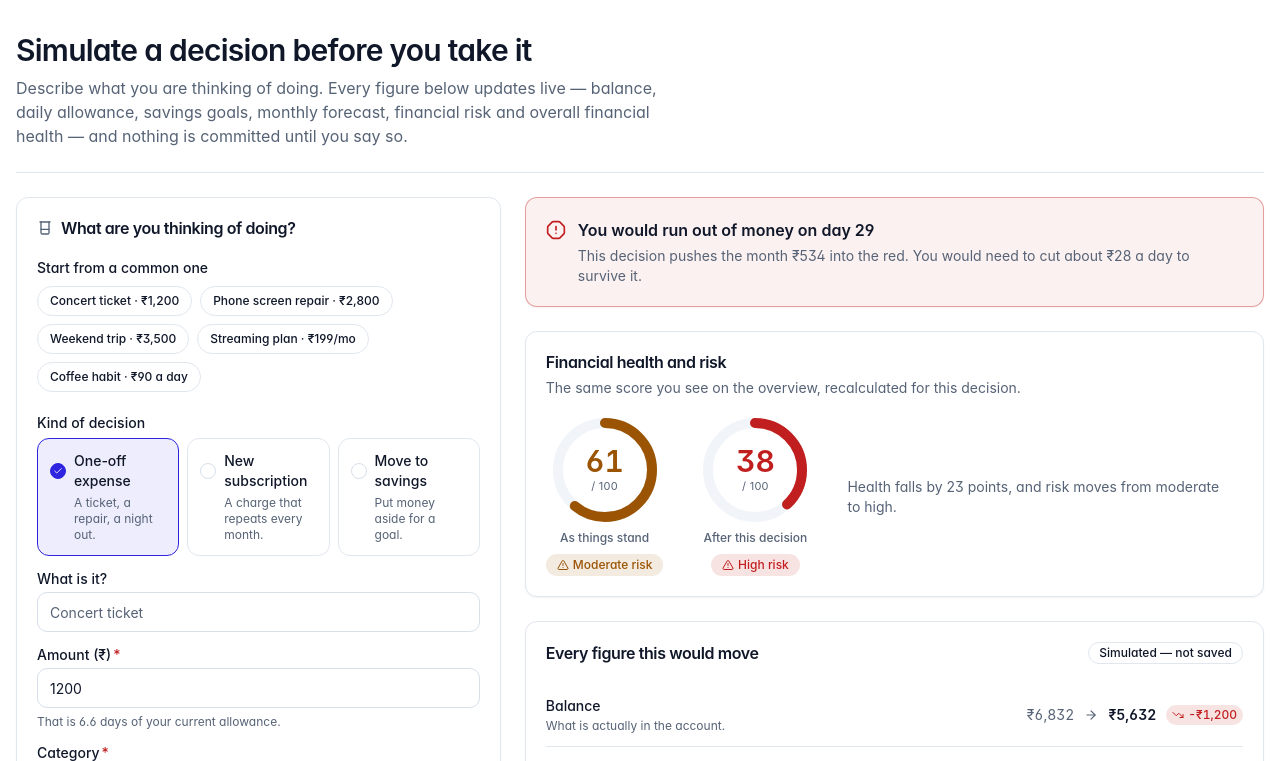
<Simulate /> › applying a preset fills the form and shows a live verdict without committing anything
Click the button "Phone screen repair · ₹2,800". click: [296, 301]
box: [200,286,392,316]
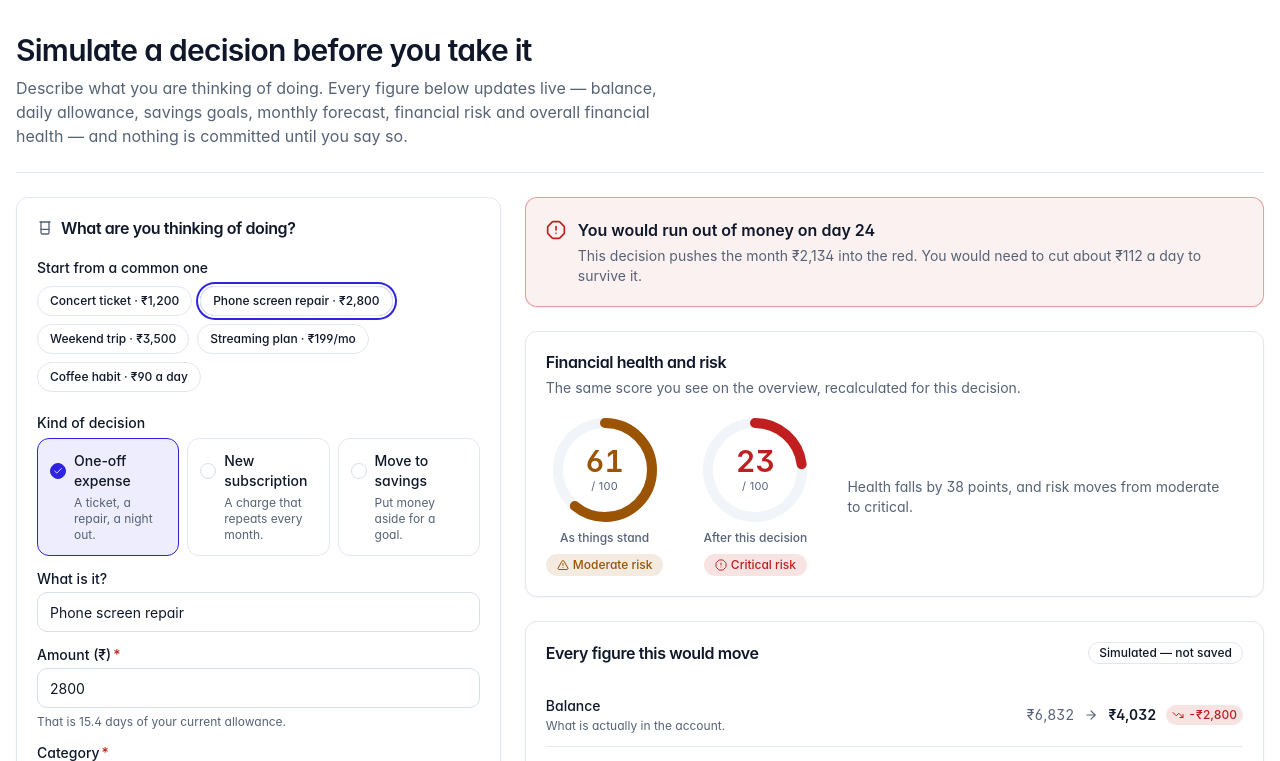
Expected: the heading "You would run out of money on day 24" is shown, [578,220,875,240]
Result: the number field labelled "Amount (₹)*" holds "2800" at [37,668,480,708]
